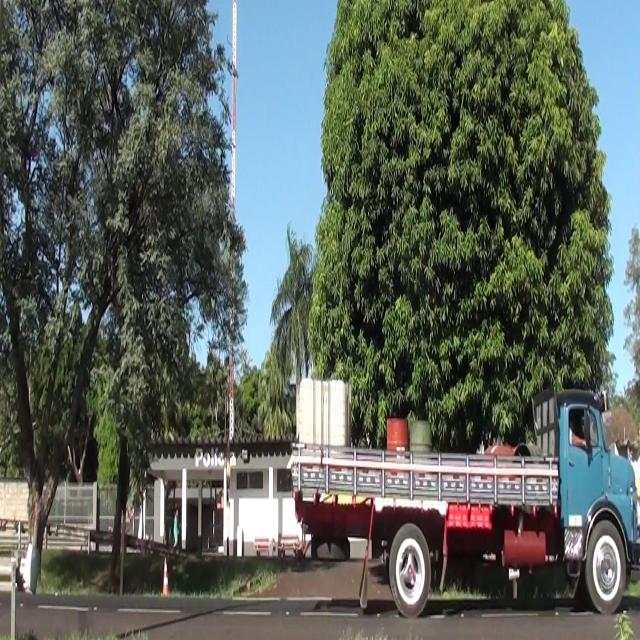-axle: (585, 516, 629, 618), (391, 520, 432, 618)
